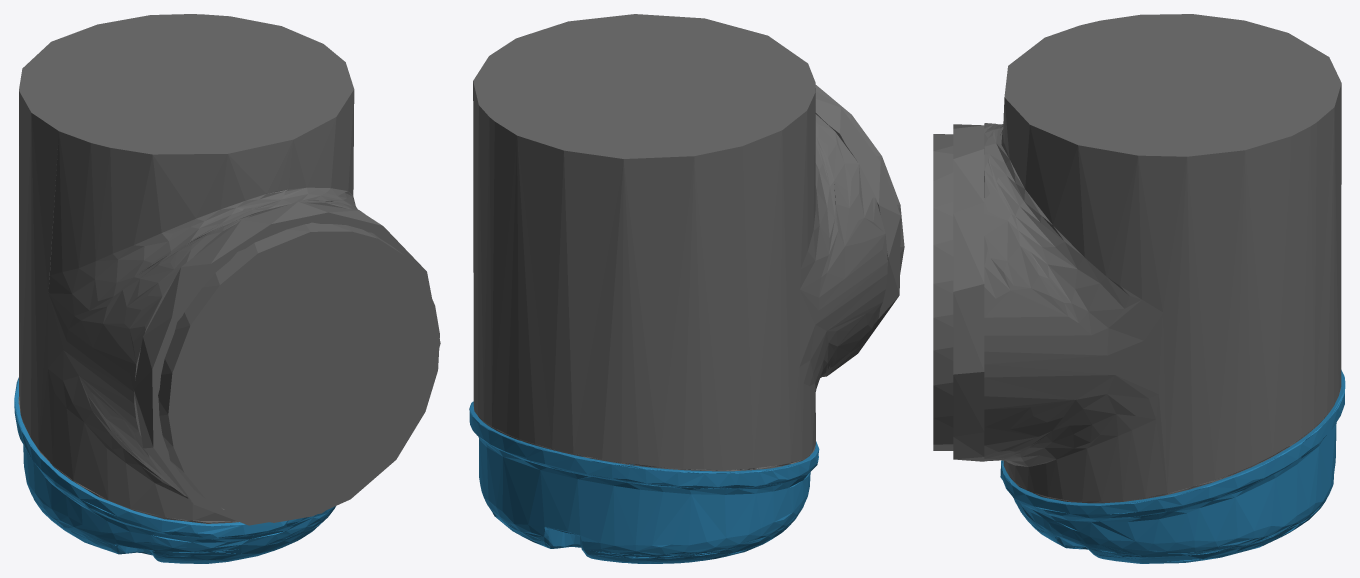
The model's file is wrist1.dae.
3 views of the same model, side by side, from view 1: azimuth 30°, elevation 25°; view 2: azimuth 150°, elevation 25°; view 3: azimuth 270°, elevation 25° (orthographic). The views are drawn at different scales.
Visible parts, largest first — view 1: node0, node2, node1; view 2: node0, node2, node1; view 3: node0, node2, node1.
Part boxes in pixels (<box>): node0: <box>18,14,439,523</box>; node2: <box>14,377,335,563</box>; node1: <box>133,201,440,525</box>; node0: <box>473,14,904,471</box>; node2: <box>469,401,819,563</box>; node1: <box>815,91,900,376</box>; node0: <box>933,14,1341,503</box>; node2: <box>1000,370,1345,563</box>; node1: <box>953,124,984,461</box>.
Bounding box in the file's own units: 0.0645 × 0.0768 × 0.0888.
